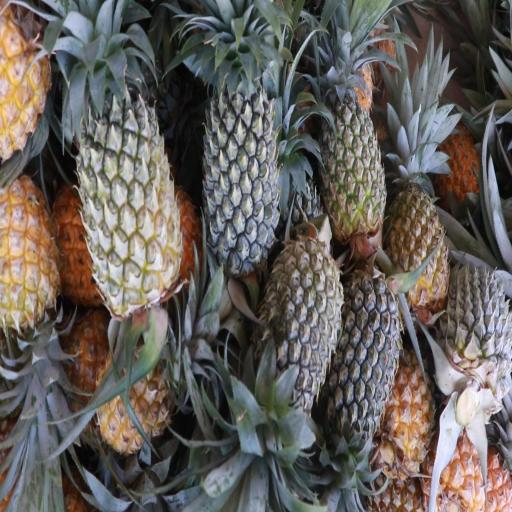------------------------------: (69, 54, 182, 304), (318, 61, 385, 237)
Pineapple - v8 v1: (0, 179, 67, 387), (96, 330, 205, 452), (386, 150, 450, 300), (383, 355, 446, 474)
